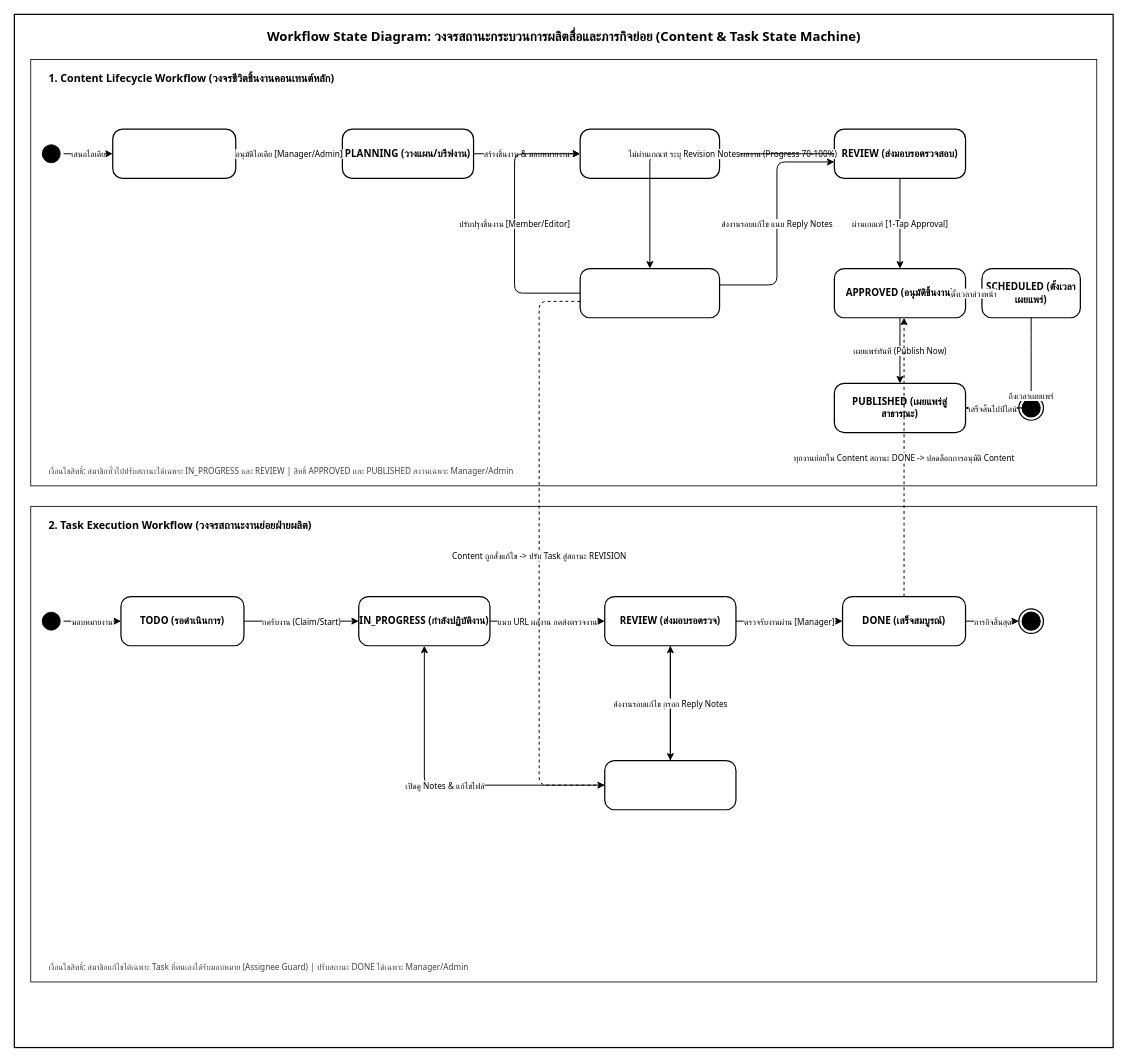
Image size: 1128x1063. Some labels were removed from this diagram. The box of each missing label's shape, as (x1, y1, x2, y2) in pixels:
IDEA (เสนอแนวคิด): (112, 128, 236, 179)
IN_PROGRESS (กำลังผลิตคอนเทนต์): (579, 128, 720, 179)
REVISION (รอการแก้ไขตามบรีฟ): (604, 760, 736, 810)
REVISION (ส่งกลับแก้ไขงาน): (579, 268, 720, 318)
